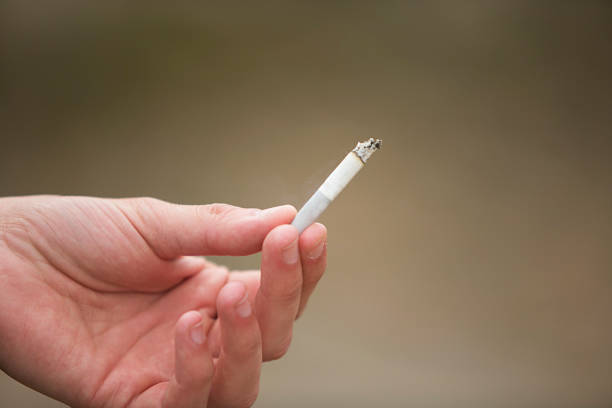cigarette: (286, 136, 380, 234)
